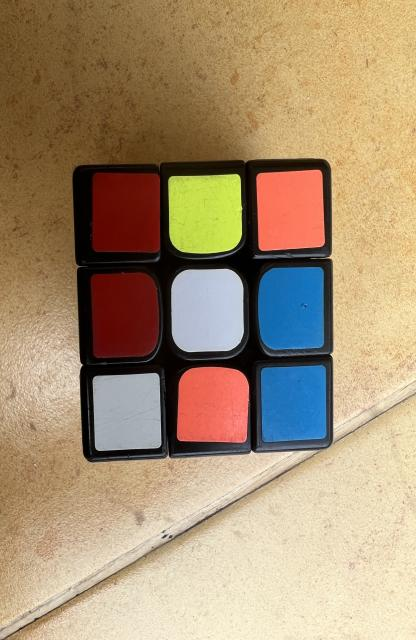Blue: (258, 266, 324, 350), (261, 365, 326, 442)
Orange: (257, 170, 325, 251), (177, 366, 249, 442)
Red: (91, 272, 159, 358), (92, 172, 160, 252)
White: (171, 269, 244, 352), (92, 372, 161, 451)
Yellow: (168, 174, 243, 254)
